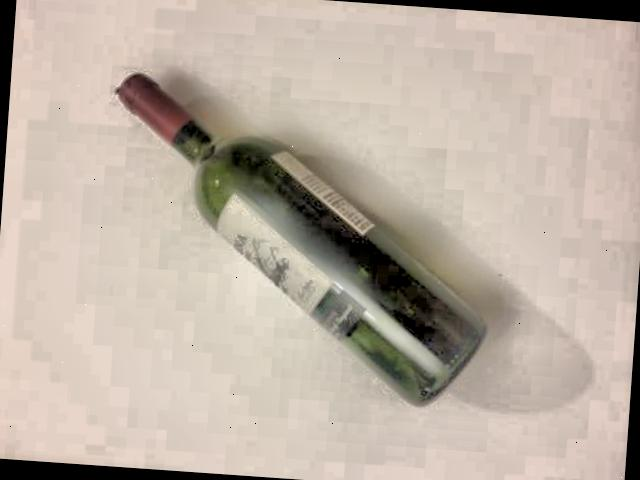Bottles: (54, 36, 534, 436)
